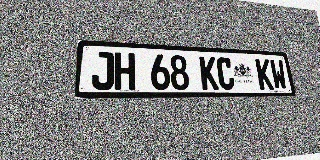6: (150, 54, 171, 90)
8: (169, 55, 189, 90)
C: (216, 57, 235, 90)
H: (114, 52, 135, 90)
J: (91, 51, 114, 90)
K: (199, 56, 219, 90), (255, 59, 274, 90)
W: (269, 59, 288, 90)
